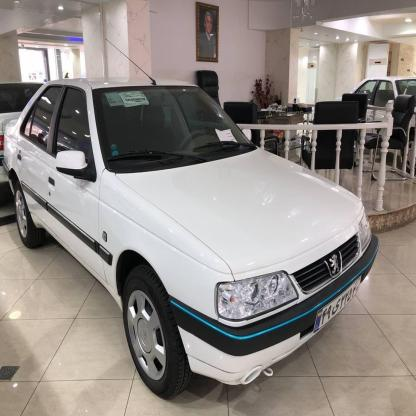Car: (5, 71, 371, 406), (339, 68, 416, 171), (0, 78, 49, 181)
